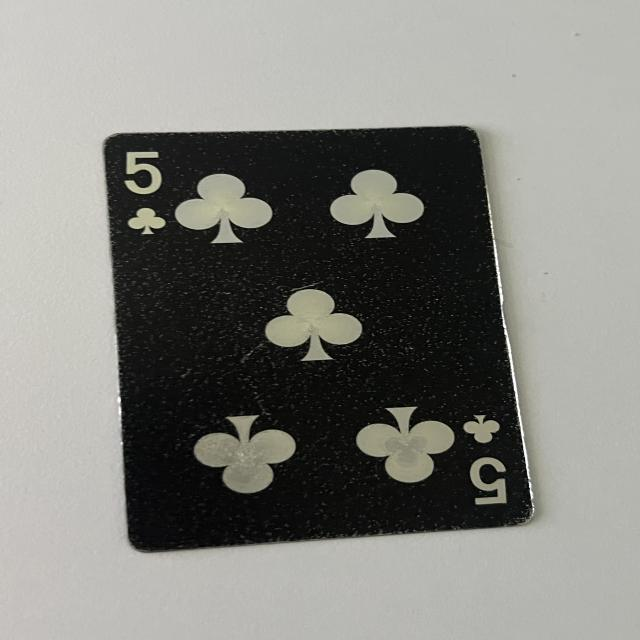5C: (112, 146, 178, 236), (462, 410, 518, 510)
